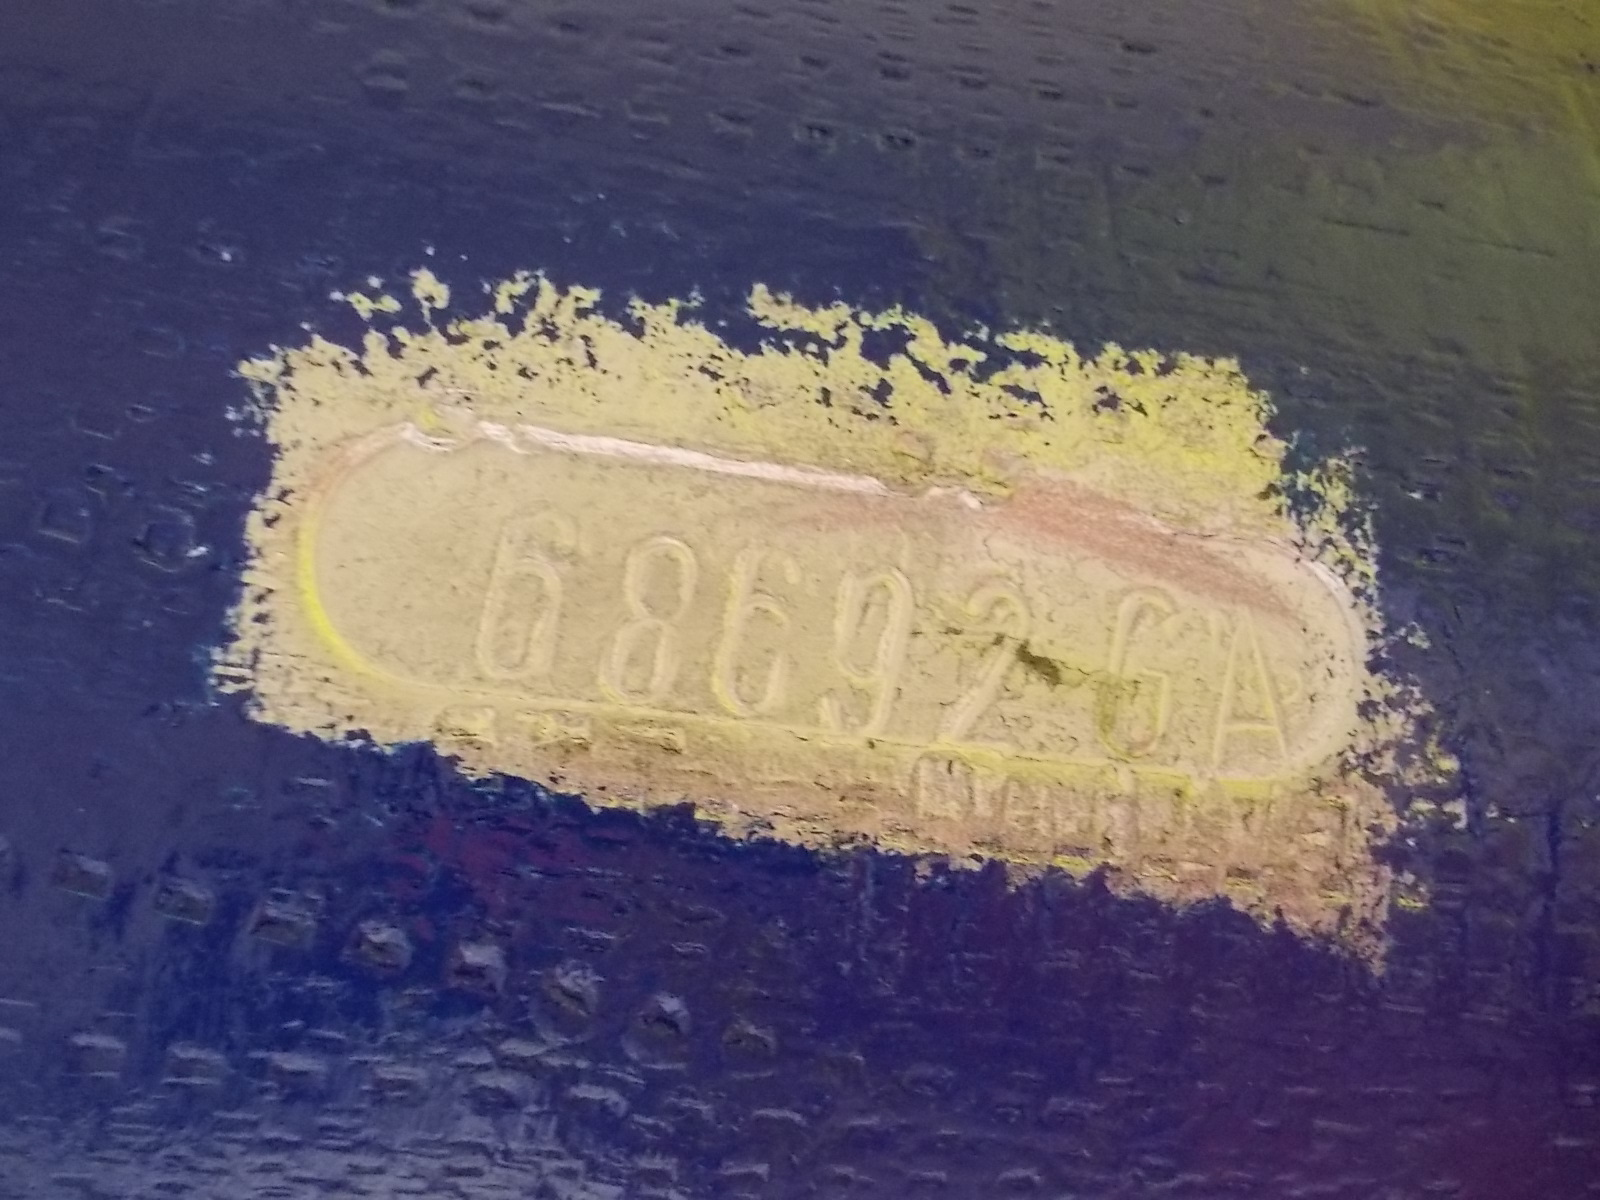character: (577, 524, 703, 718), (450, 495, 568, 700), (921, 557, 1036, 765), (792, 557, 921, 741), (1071, 568, 1198, 754), (1198, 568, 1295, 776), (704, 524, 792, 741)
